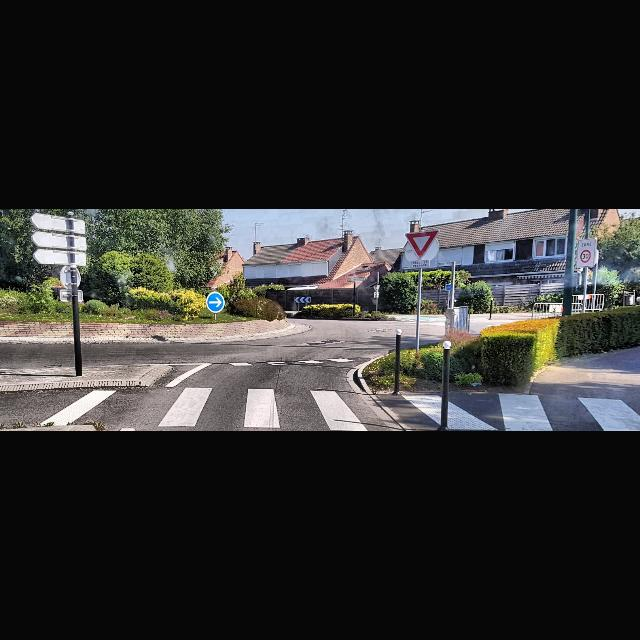speed_30: (580, 249, 591, 263)
